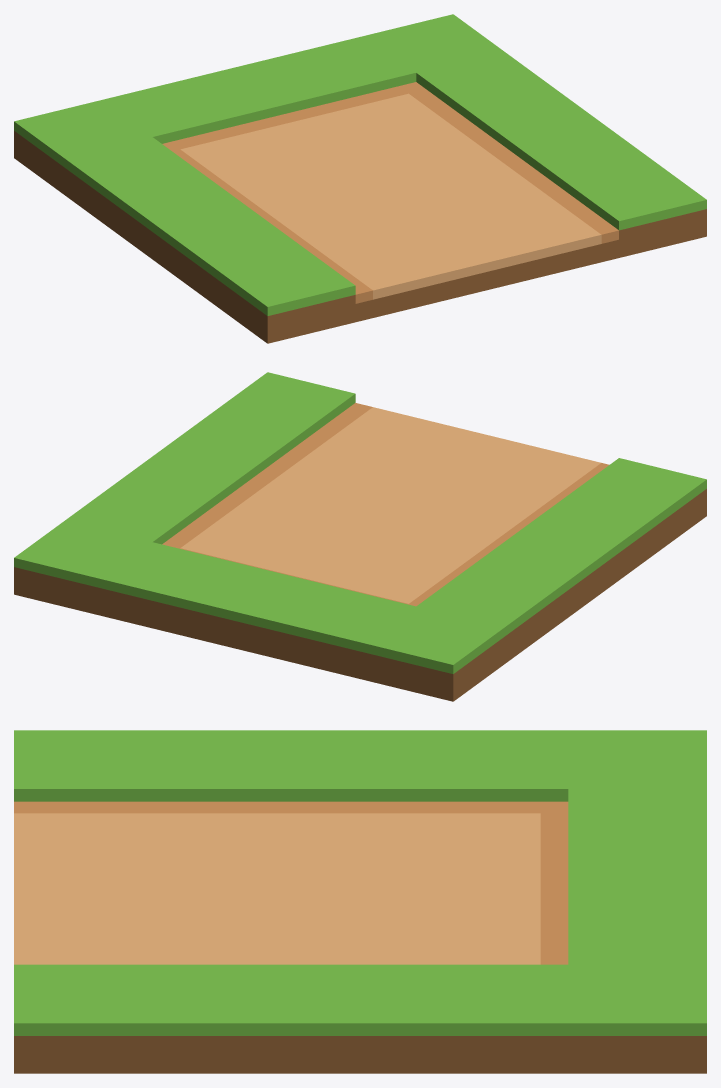
File: path_end.glb
3 renders of one model, top to bottom at view 1: azimuth 30°, elevation 25°; view 2: azimuth 150°, elevation 25°; view 3: azimuth 270°, elevation 25°, orthographic. The views are drawn at different scales.
Visible parts, largest first — view 1: model_0; view 2: model_0; view 3: model_0.
Boxes of the visible parts, x1,y1,x2,y2 form: model_0: (14, 14, 706, 343); model_0: (14, 372, 706, 701); model_0: (14, 730, 706, 1073).
Size of the model in its own units: 2 by 0.16 by 2.
